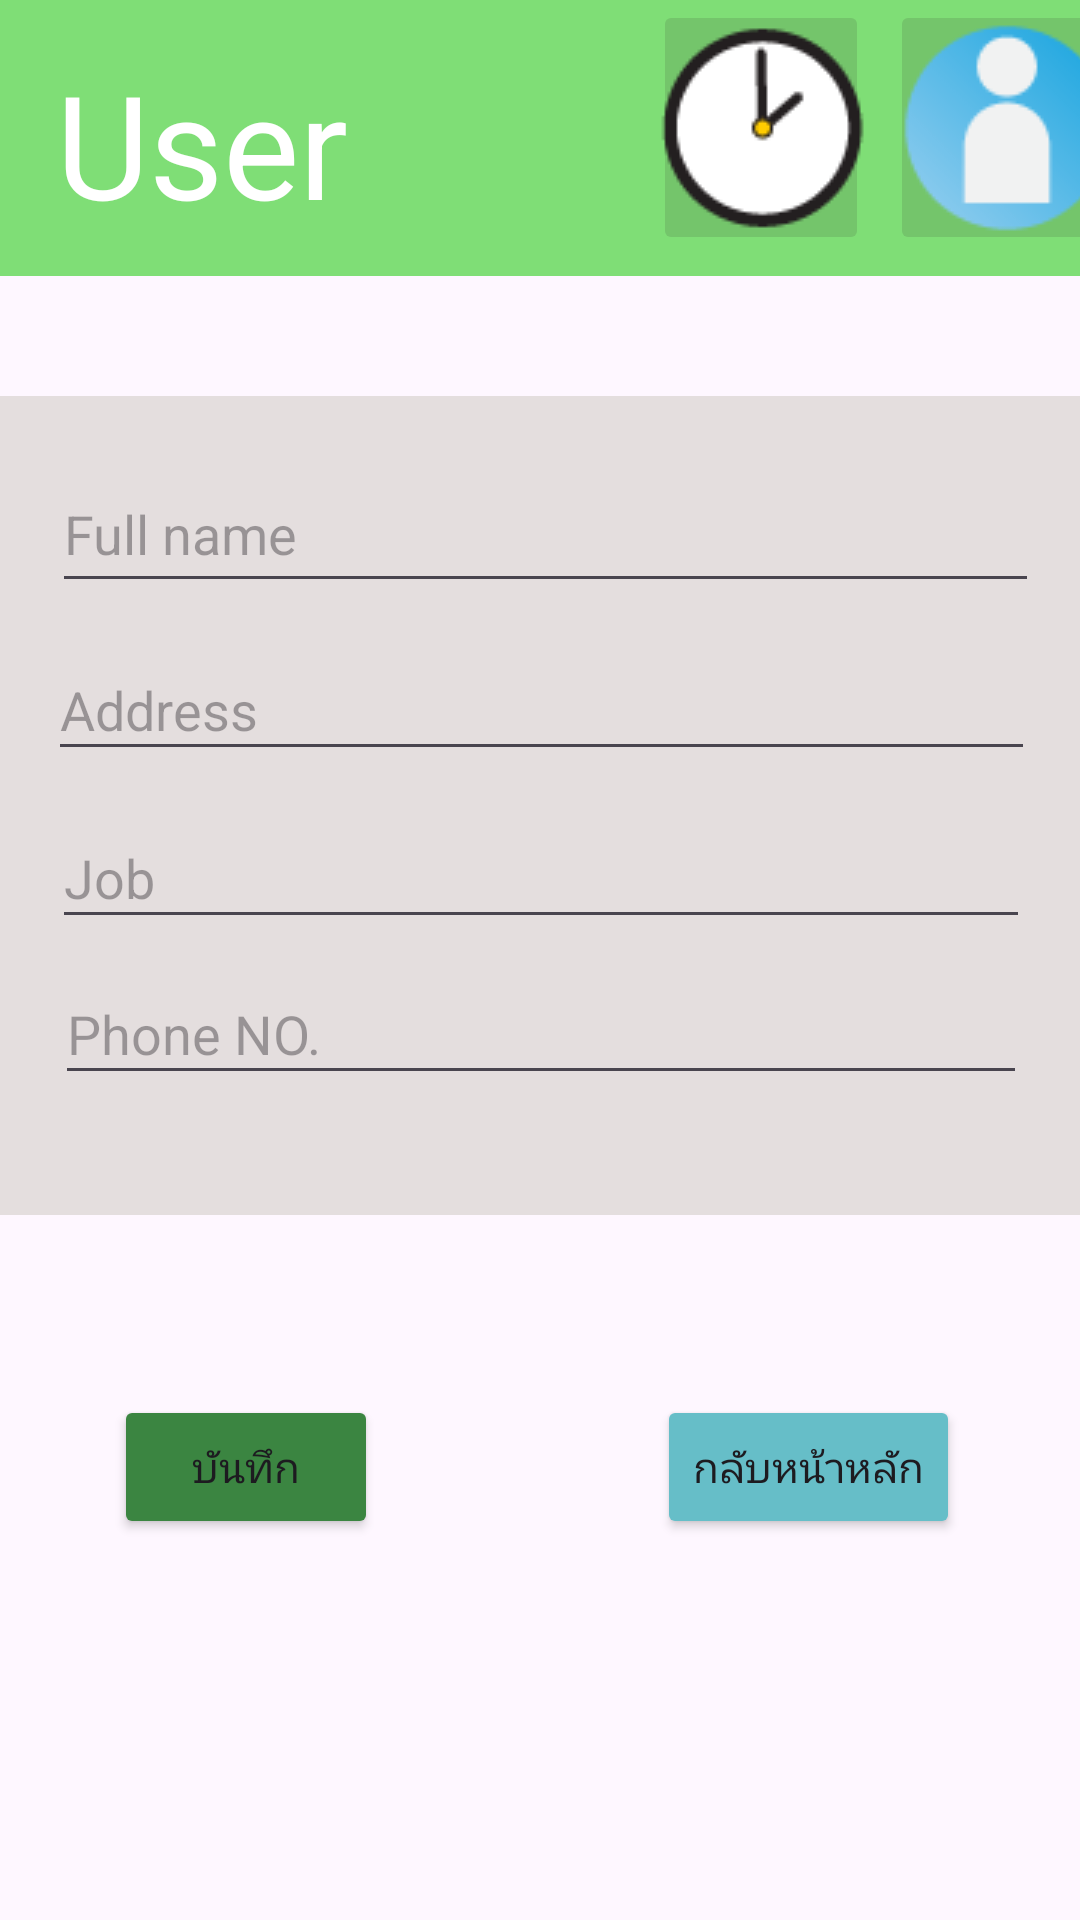

Icon bounding boxes for this 1080w x 1920h phone screenshot, format (x1, y1, x2, y2):
historybuttonicon: (662, 18, 864, 237)
